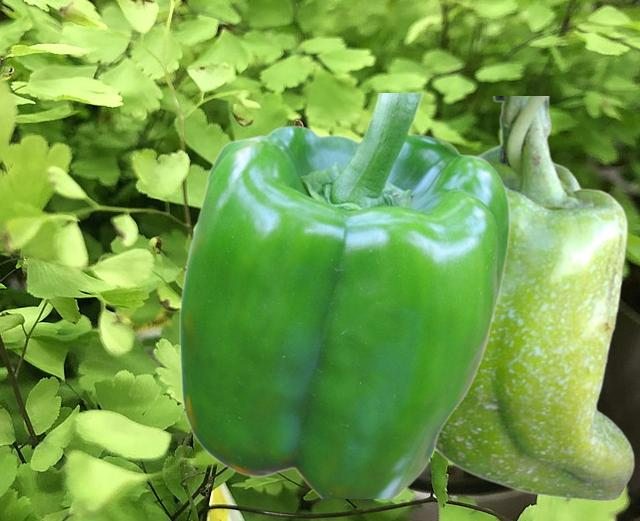bell_pepper: (178, 93, 509, 497), (436, 96, 634, 500)
